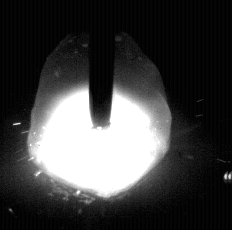arame: (90, 0, 113, 129)
poca: (28, 0, 172, 230)
